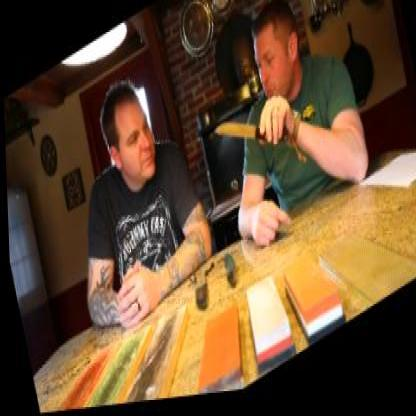knife: (204, 82, 284, 188)
